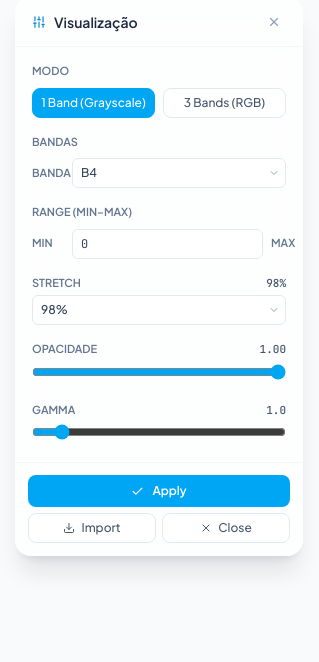
Test: RasterVisPanel › toggles back to grayscale from RGB
Note: Switch to RGB first
Click the button "3 Bands (RGB)" at (224, 102), box [163,88,286,118]
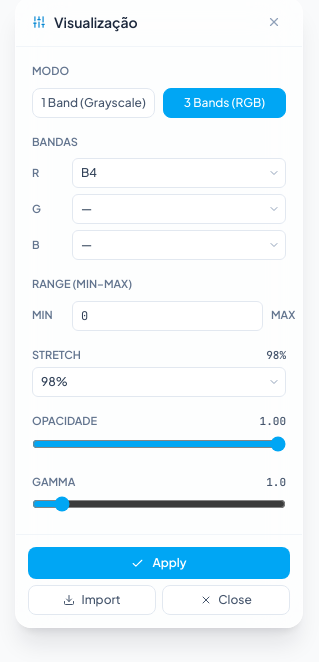
Expected: the number of dropdowns is 4, [72,158,286,188]; [72,194,286,224]; [72,230,286,260]; [32,367,286,397]
Note: Switch back to grayscale
Click the button "1 Band (Grayscale)" at (94, 102), box [32,88,155,118]
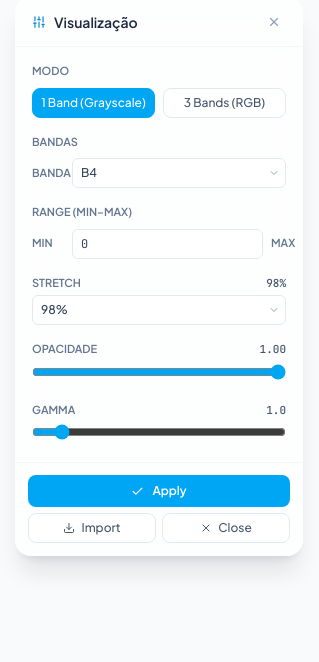
Expected: the number of dropdowns is 2, [72,158,286,188]; [32,295,286,325]
